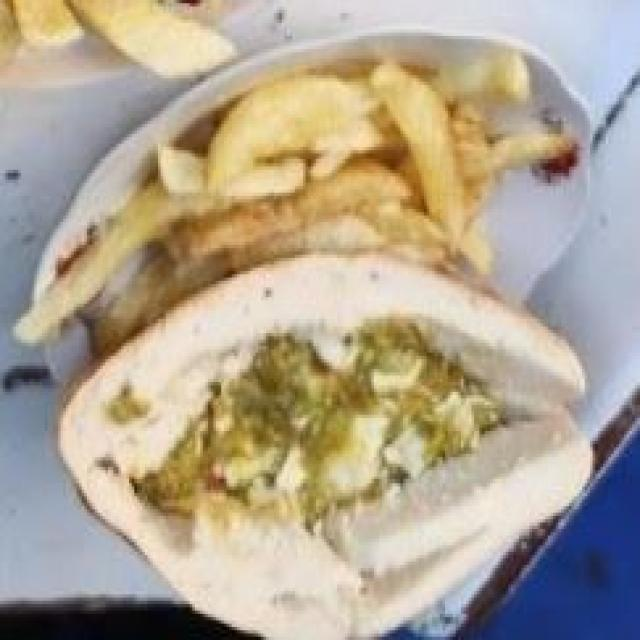Sandwitch tounsi: (80, 301, 619, 634)
